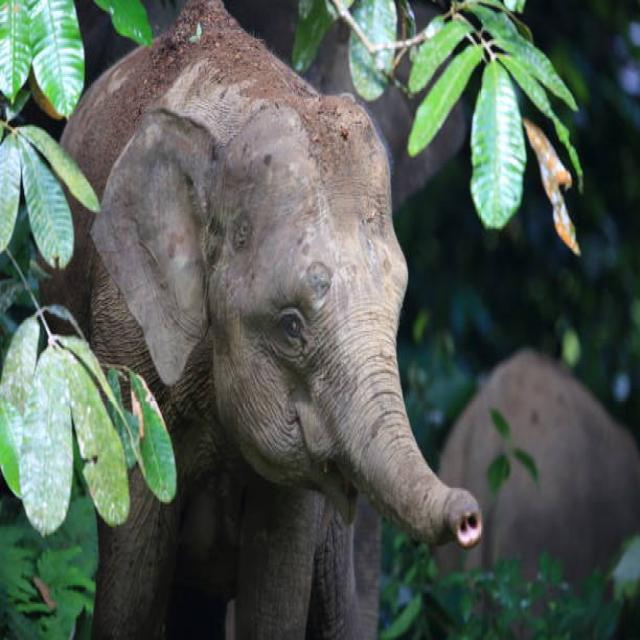Elephant: (57, 1, 481, 630)
